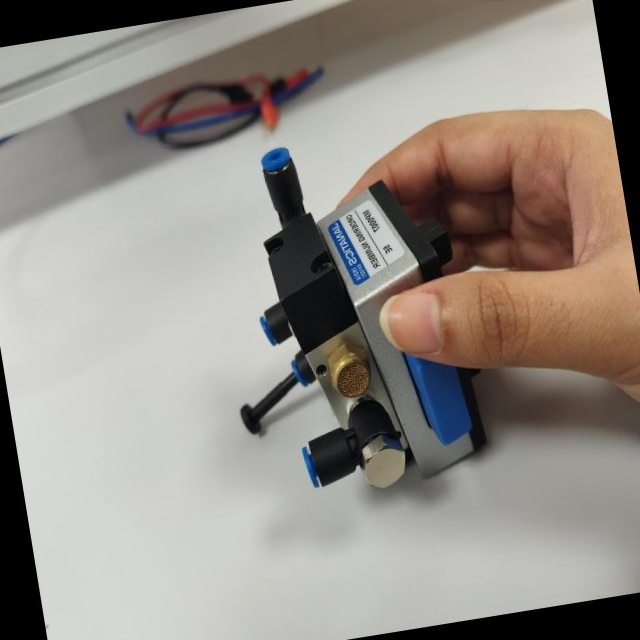5by2 DCV: (188, 102, 500, 521)
